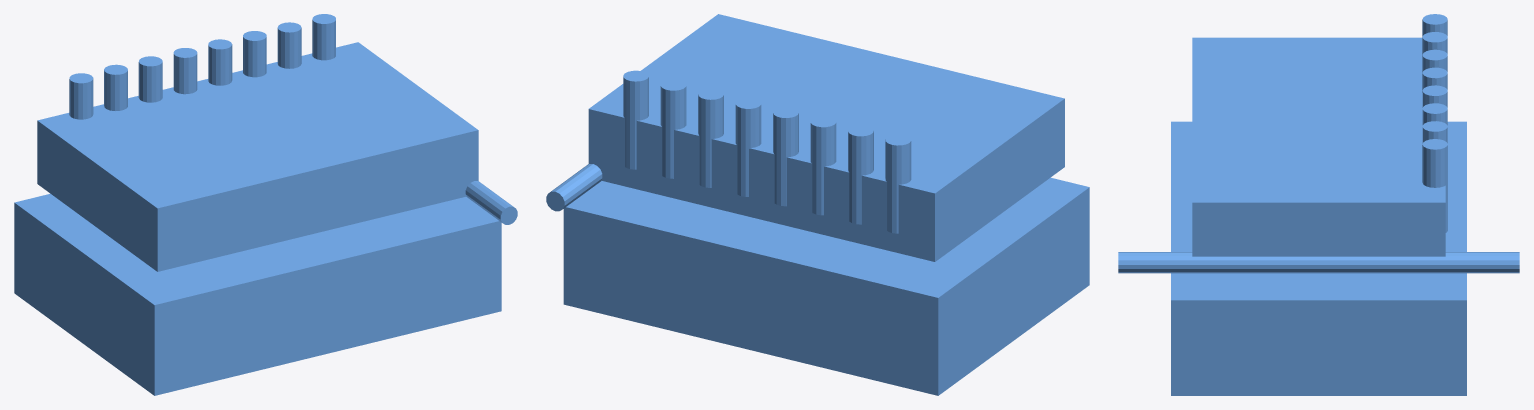
3 renders of one model, left to right at view 1: azimuth 30°, elevation 25°; view 2: azimuth 150°, elevation 25°; view 3: azimuth 270°, elevation 25°, orthographic. The views are drawn at different scales.
Parts seen in each view (by area): view 1: rep_weapons_factory_sketchfab_001; view 2: rep_weapons_factory_sketchfab_001; view 3: rep_weapons_factory_sketchfab_001.
Boxes of the visible parts, x1,y1,x2,y2 form: rep_weapons_factory_sketchfab_001: (14, 14, 517, 395); rep_weapons_factory_sketchfab_001: (546, 14, 1089, 395); rep_weapons_factory_sketchfab_001: (1118, 14, 1519, 395).
Size of the model in its own units: 2 by 1.17 by 1.9.
